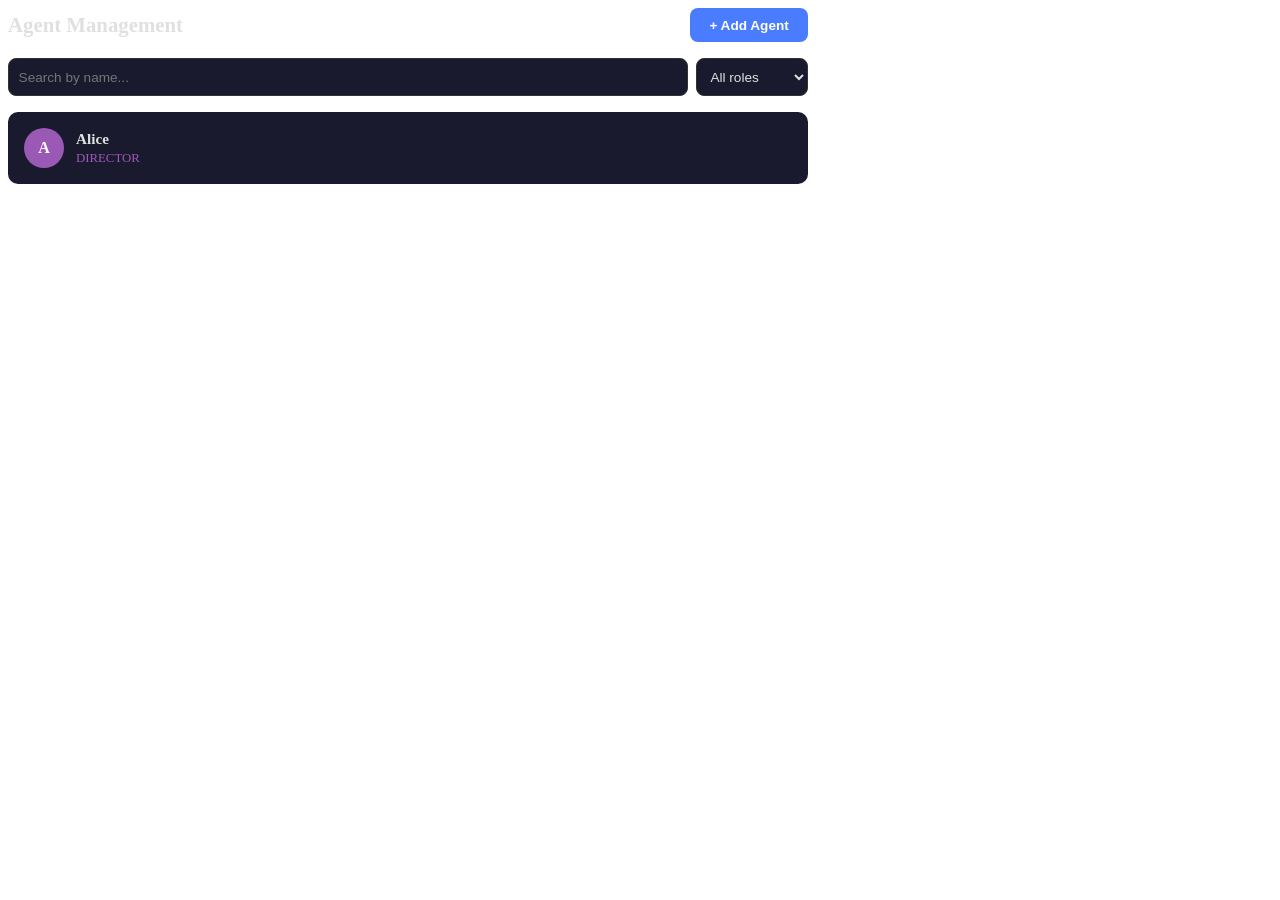
Test: AgentsPage › opens detail popup on card click
Click the text "Alice" at (92,139), box [76,130,109,147]
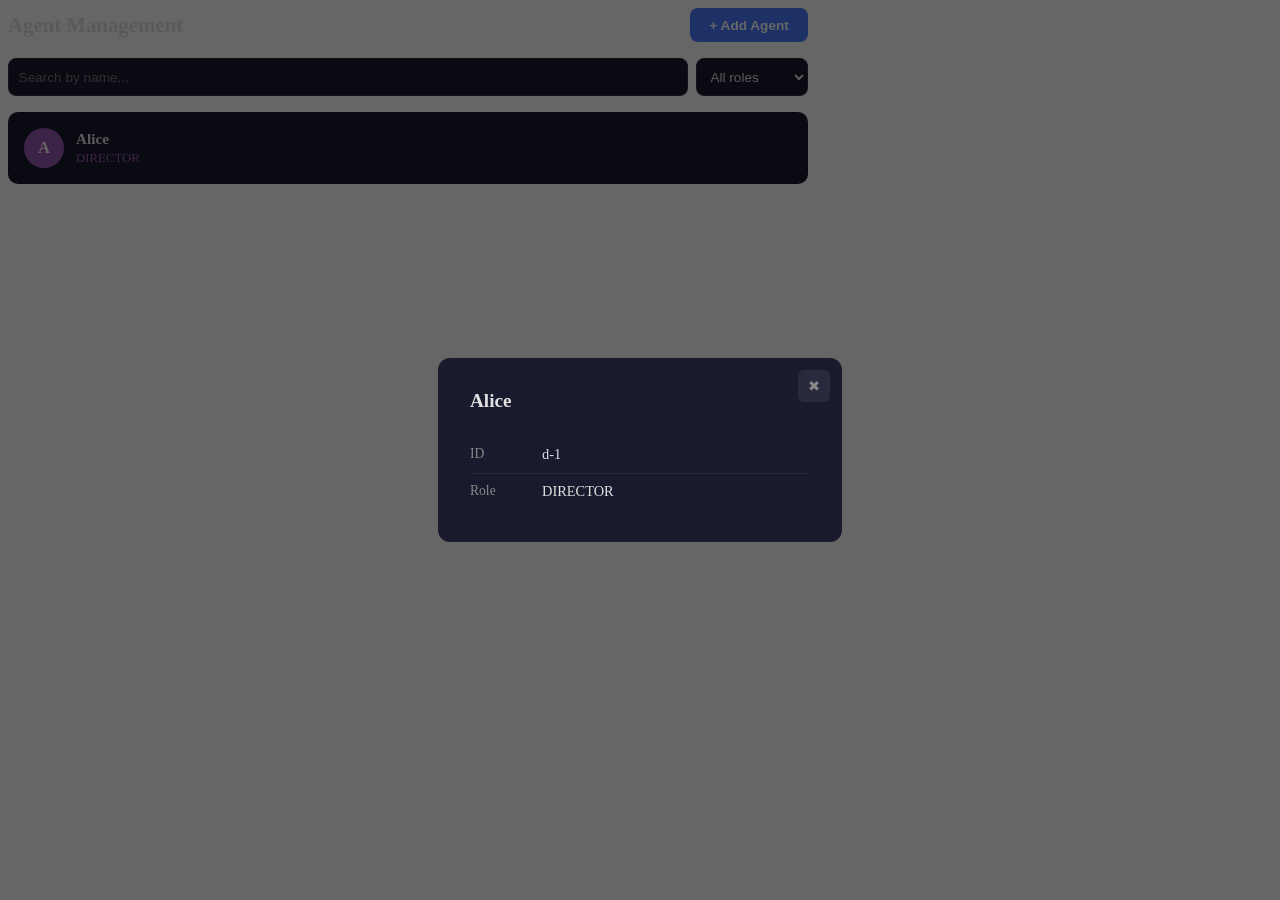
Check: the text "ID" is shown, box [470,446,484,461]
Check: the text "d-1" is shown, box [542,446,561,463]
